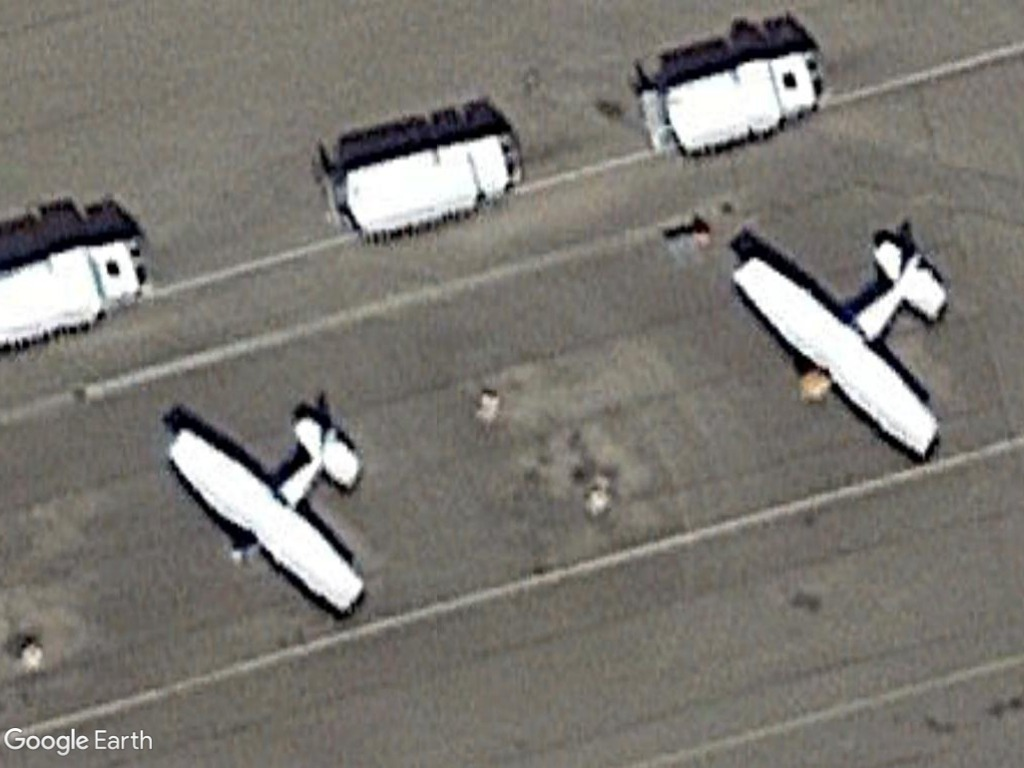trainer: (725, 225, 950, 465), (164, 407, 370, 627)
